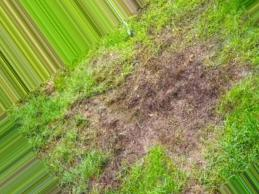patch: (91, 122, 207, 160), (155, 67, 229, 112), (110, 93, 152, 123)
